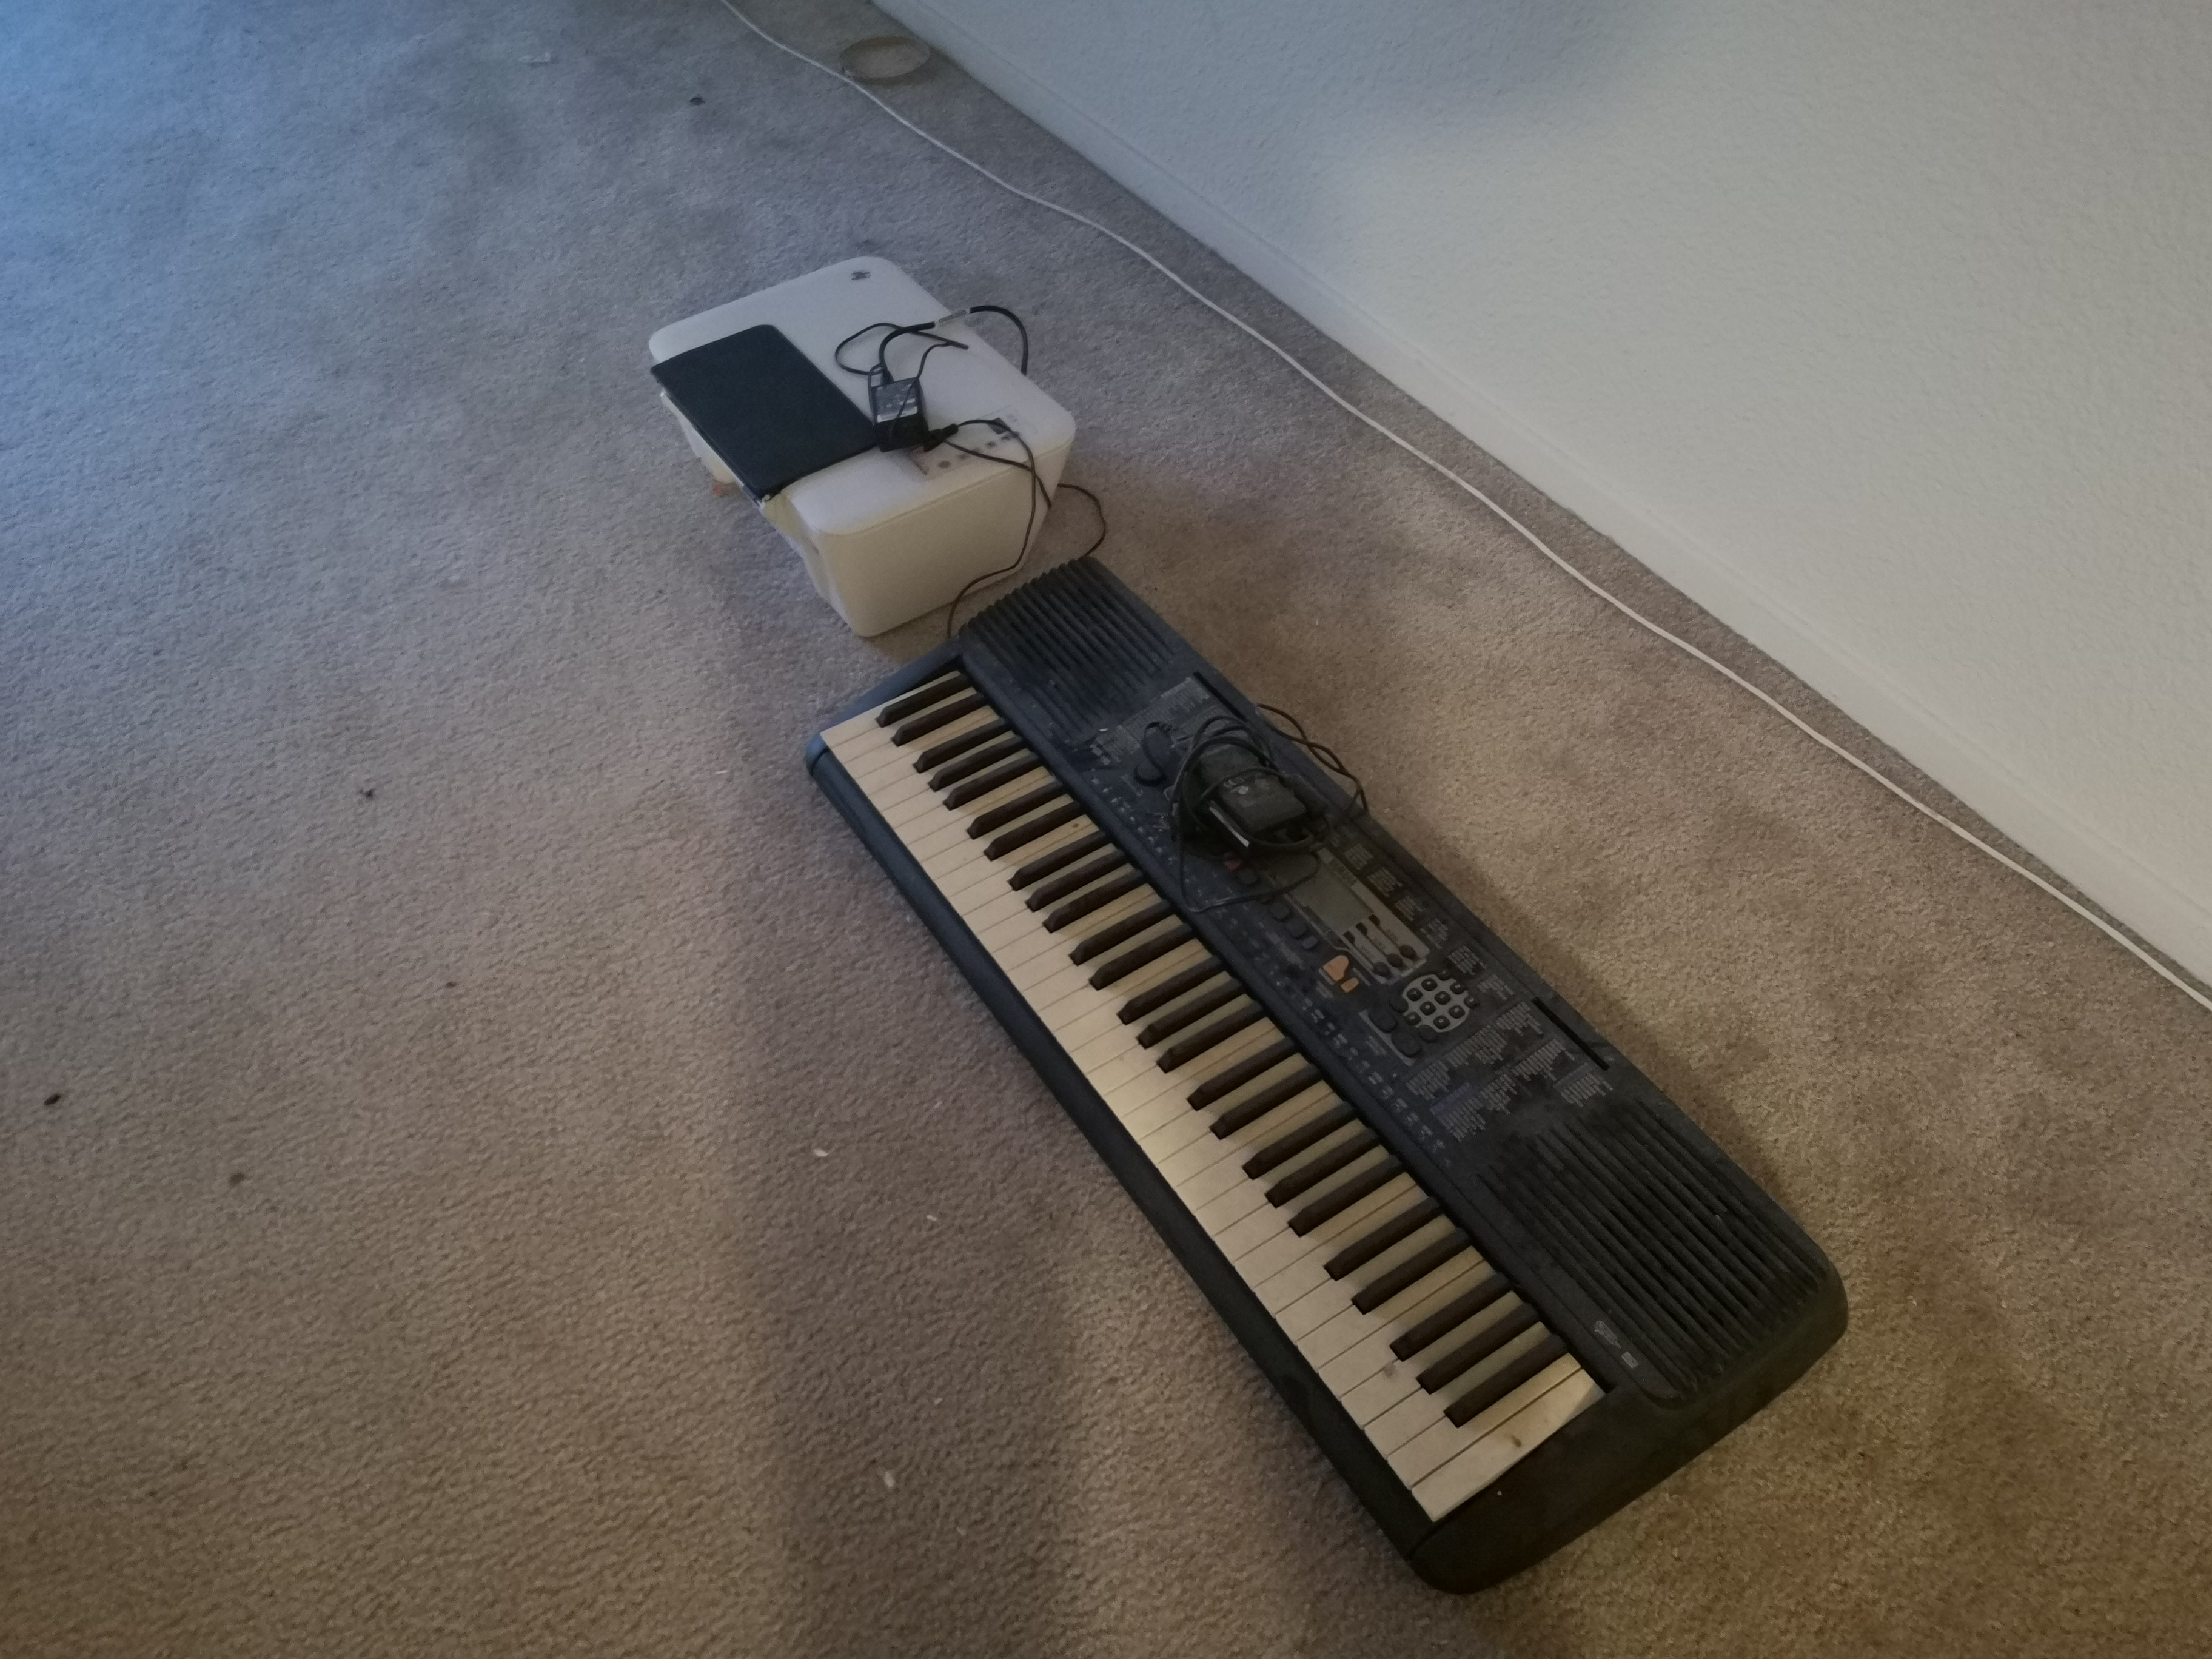Obstacle: (878, 2, 2207, 983), (810, 575, 1857, 1598), (639, 260, 1097, 636)
